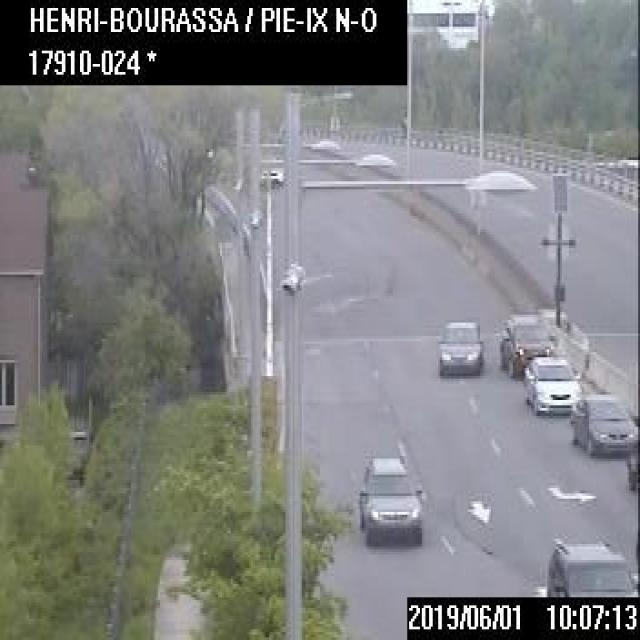vehicle: (358, 456, 420, 544), (546, 539, 638, 597), (569, 393, 636, 456), (498, 310, 554, 376), (523, 354, 580, 415), (436, 317, 480, 376), (258, 152, 283, 182), (626, 437, 638, 491)
